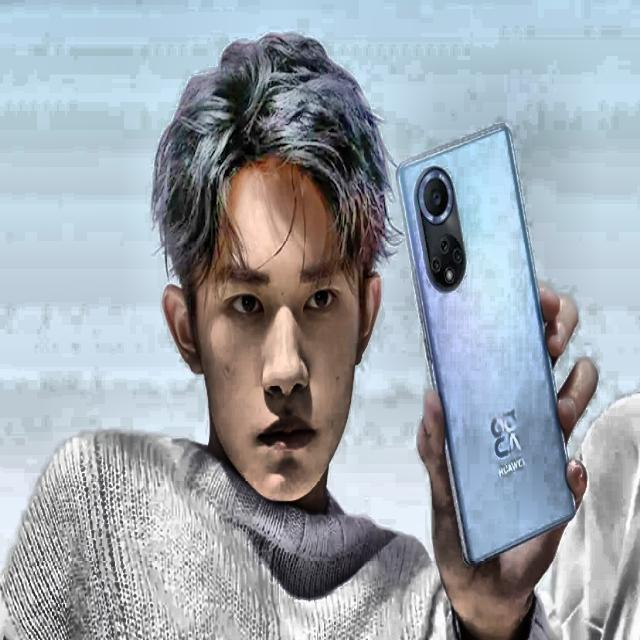Phone: (396, 120, 578, 572)
